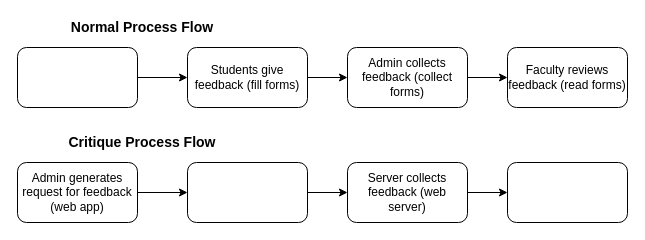
This 645x240 diagram has some shape labels left out. The shapes that lost their labels are listed below. From the top down, each one's centre as x and y in pixels, then its label:
At (x=77, y=77): "Admin asks for feedback (forms)".
At (x=247, y=192): "Students provide feedback (m obile app)".
At (x=567, y=192): "Server analyses feedback and generate inferences".
